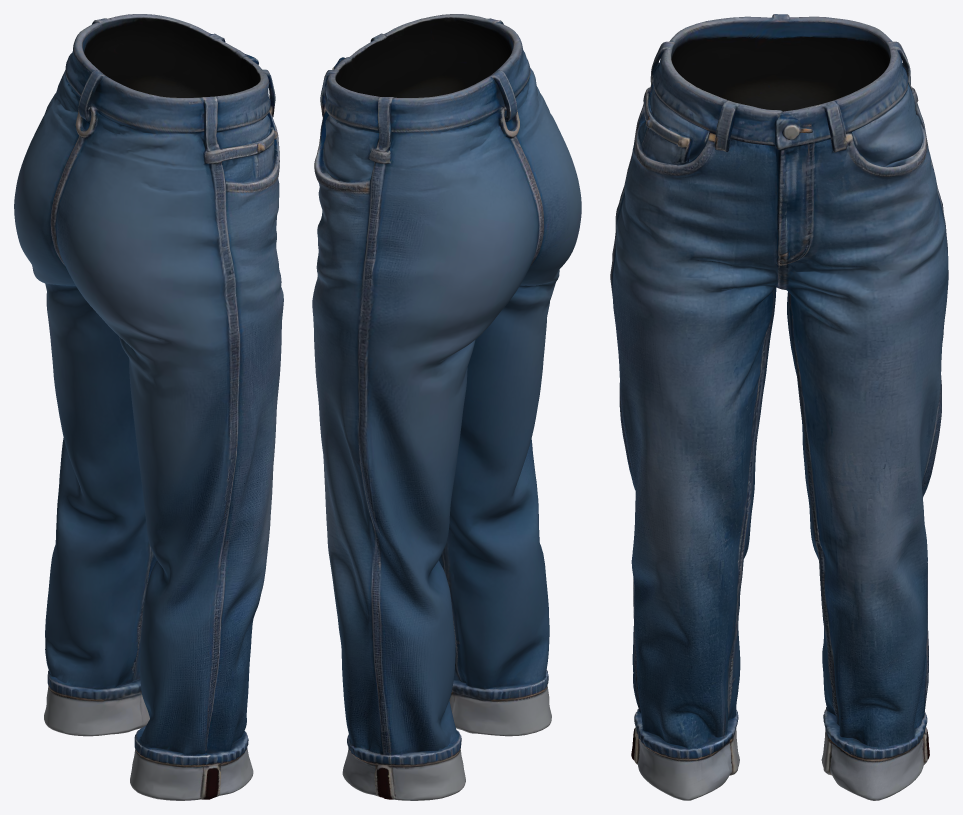
The model's file is mom.glb.
3 views of the same model, side by side, from view 1: azimuth 30°, elevation 25°; view 2: azimuth 150°, elevation 25°; view 3: azimuth 270°, elevation 25° (orthographic). The views are drawn at different scales.
Visible parts, largest first — view 1: tripo_node_675202c9-a2b2-419c-9443-bf7c55364707; view 2: tripo_node_675202c9-a2b2-419c-9443-bf7c55364707; view 3: tripo_node_675202c9-a2b2-419c-9443-bf7c55364707.
Part boxes in pixels (<box>): tripo_node_675202c9-a2b2-419c-9443-bf7c55364707: <box>14,14,283,800</box>; tripo_node_675202c9-a2b2-419c-9443-bf7c55364707: <box>312,14,581,800</box>; tripo_node_675202c9-a2b2-419c-9443-bf7c55364707: <box>610,14,948,800</box>.
Size of the model in its own units: 0.3142 by 1 by 0.4183.
1 material, 1 textured.
